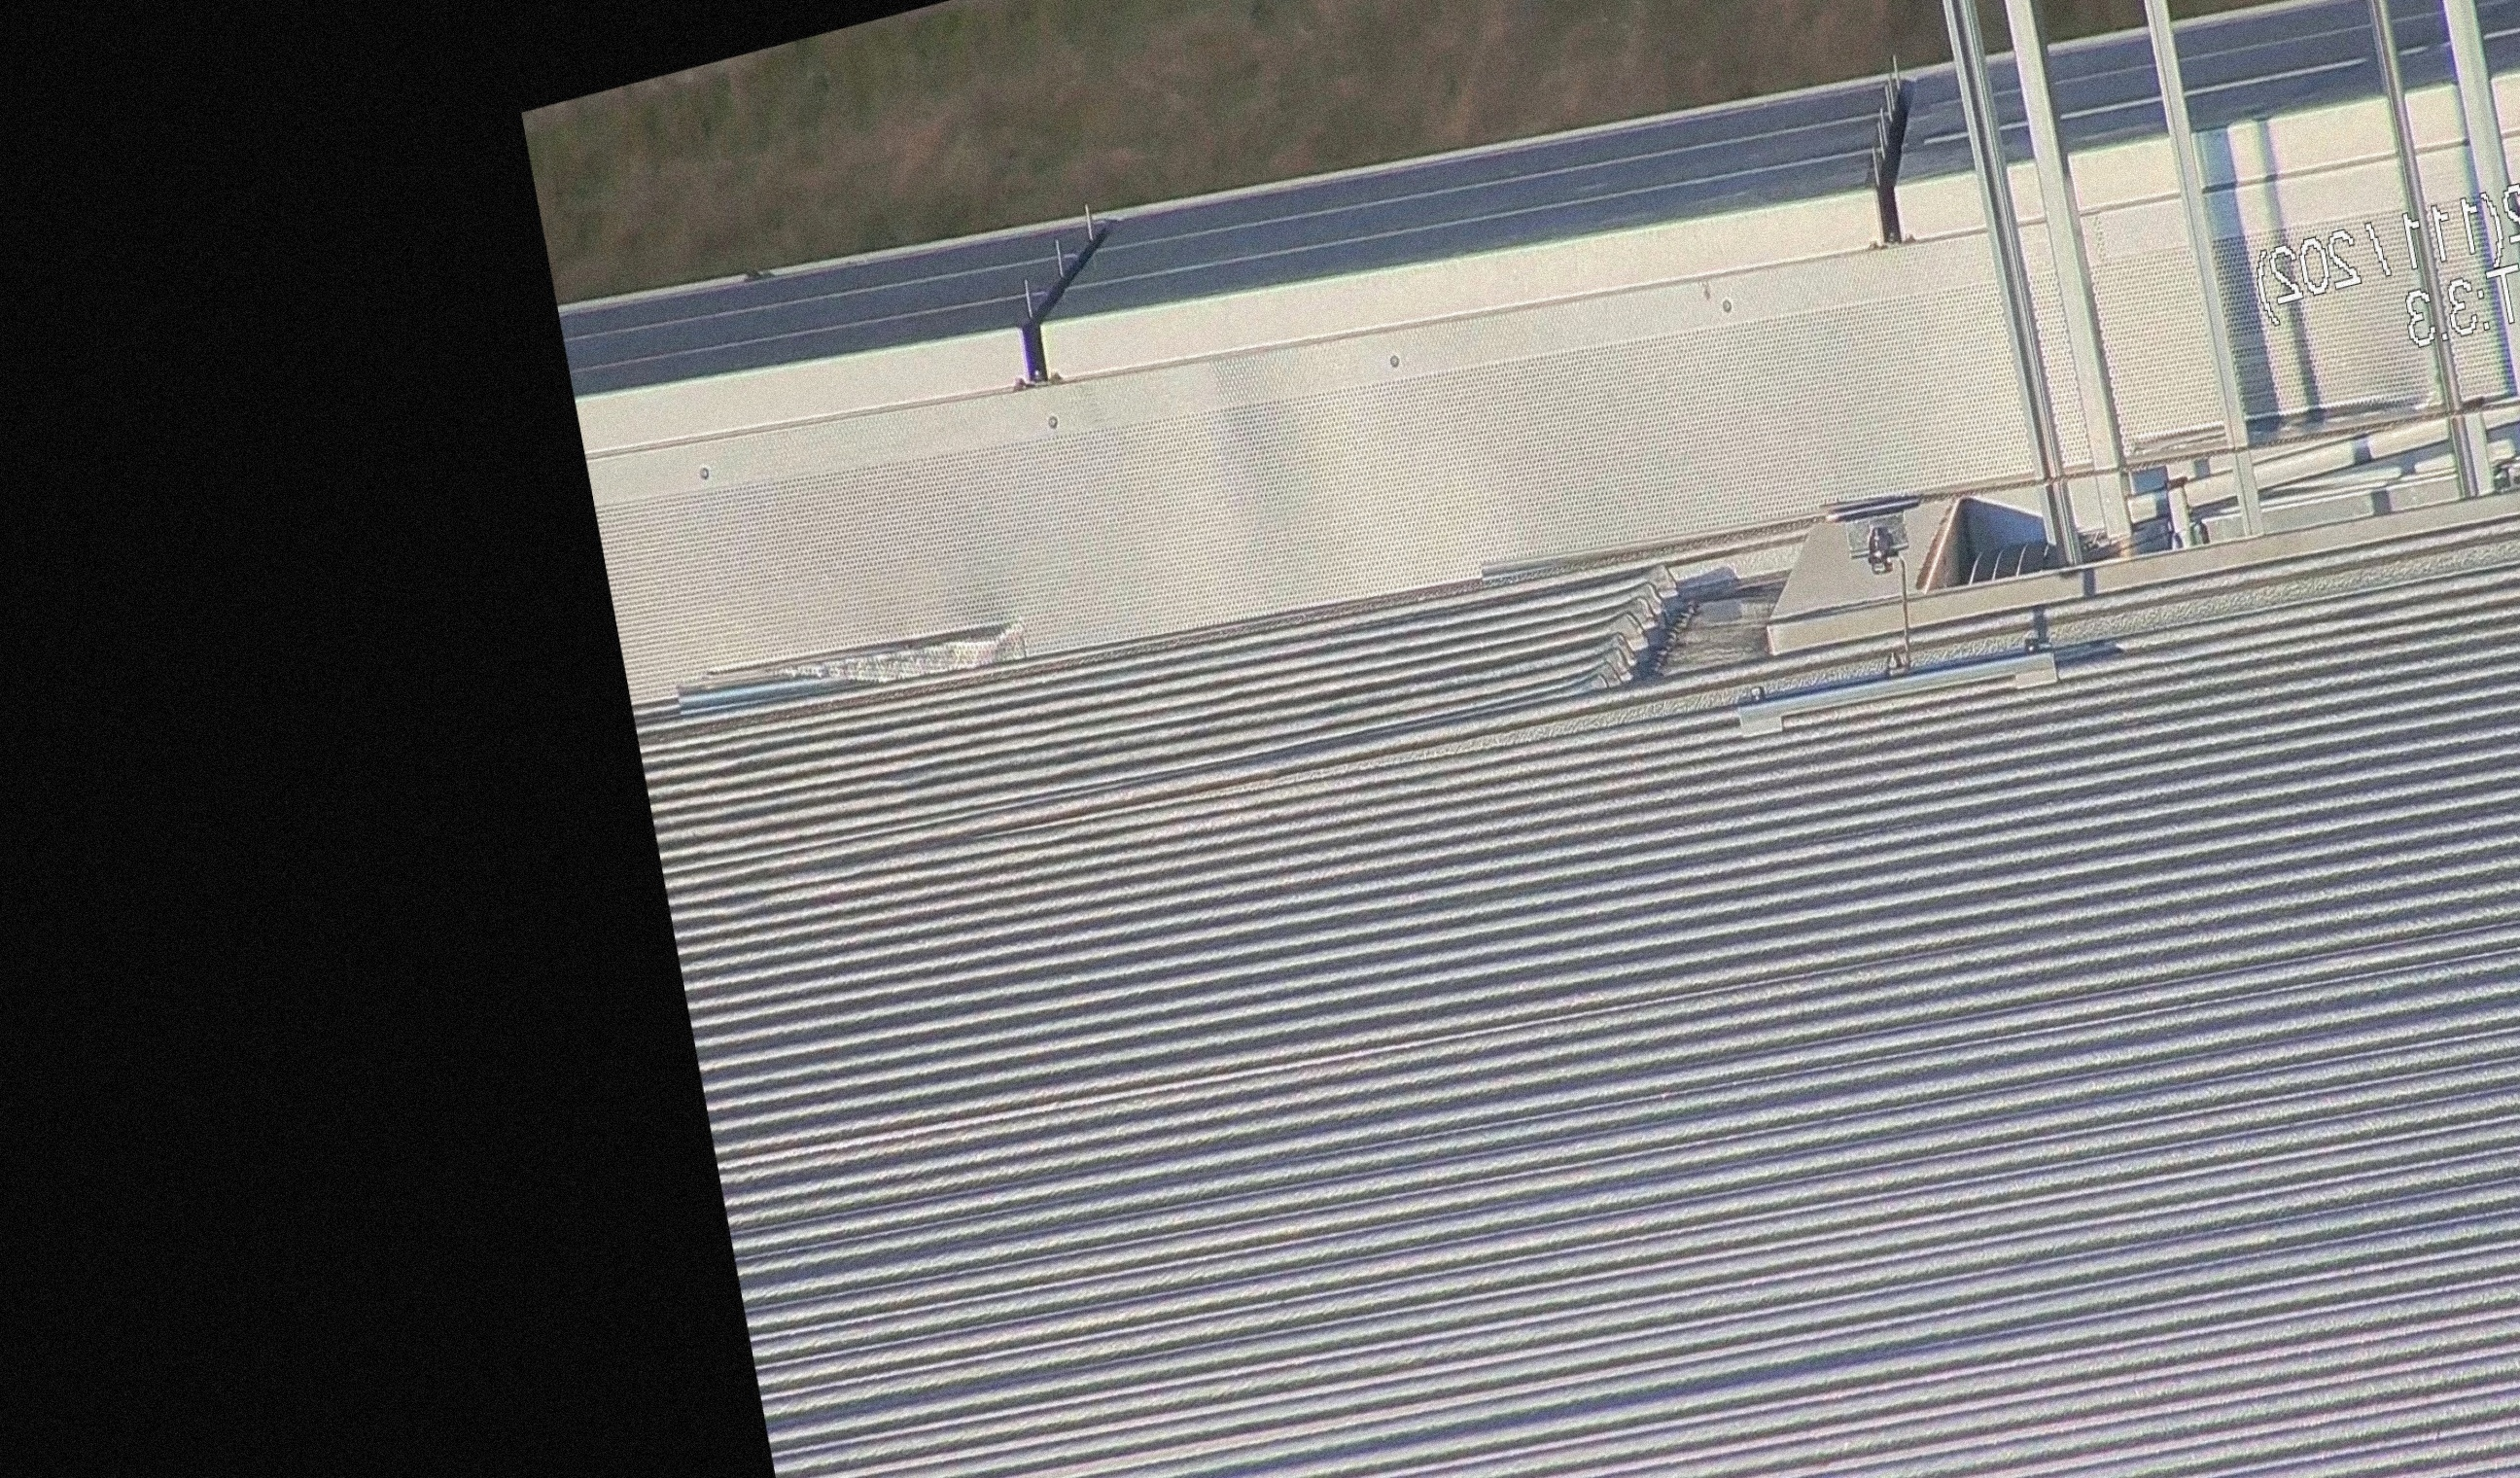Other: (1834, 51, 1966, 262)
